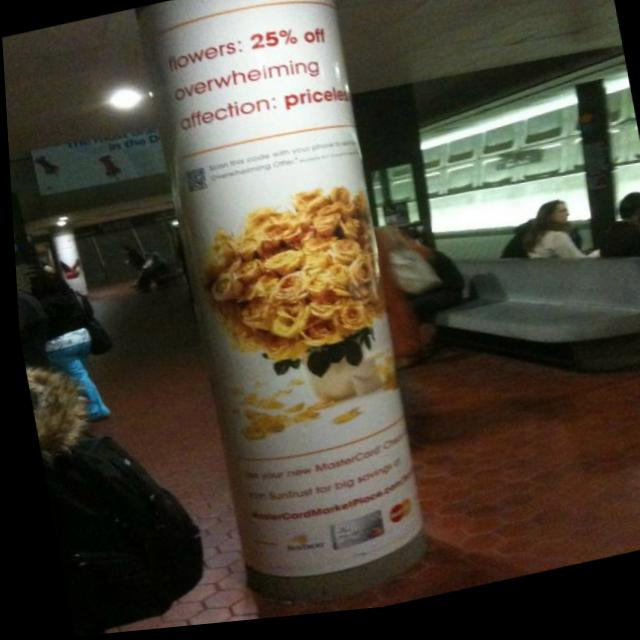qrcode: (184, 172, 205, 196)
